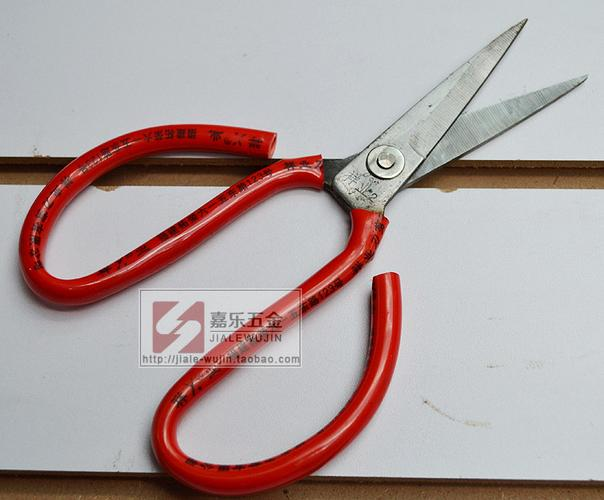scissor: (20, 15, 589, 497)
